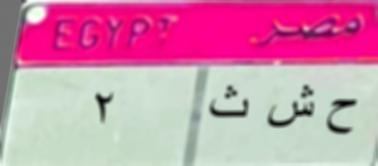2: (93, 90, 117, 126)
7aa: (324, 94, 360, 140)
sheen: (264, 85, 317, 132)
thaa: (207, 84, 252, 124)
